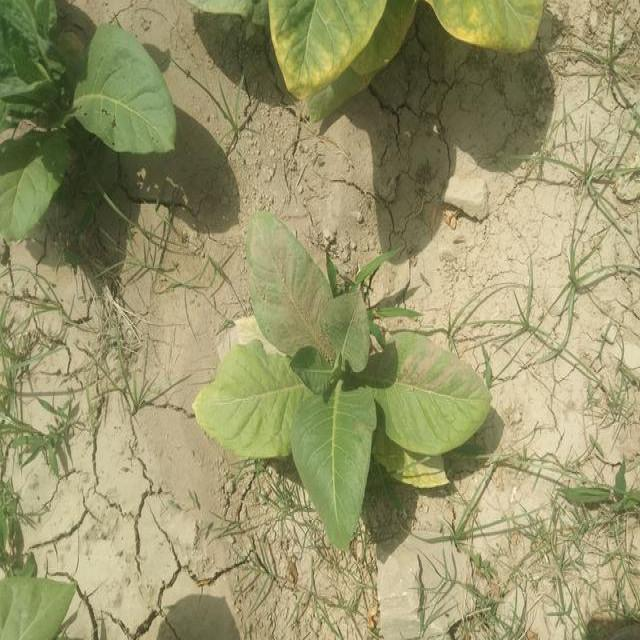crop: (203, 227, 494, 535), (0, 0, 175, 239), (273, 0, 556, 95)
